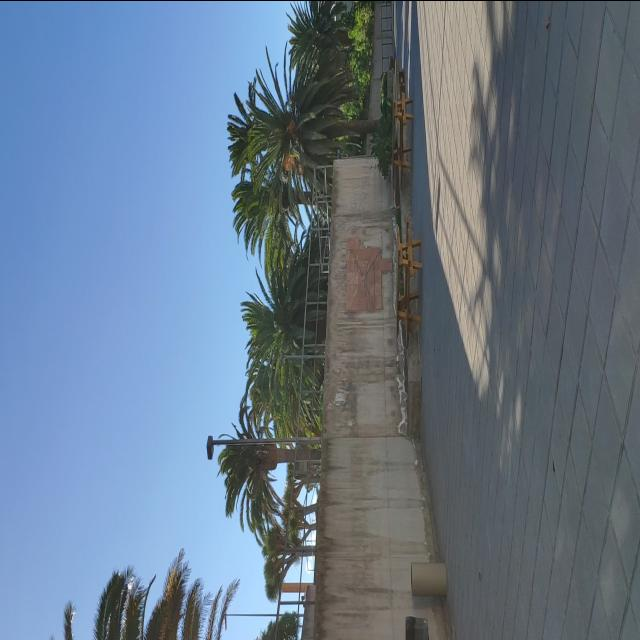Palm-Trees: (245, 61, 388, 190), (220, 395, 318, 519)
